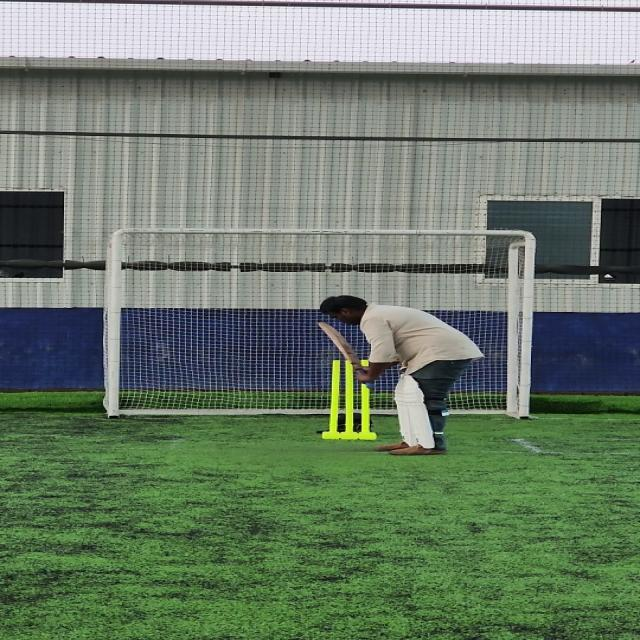stump: (322, 358, 378, 441)
